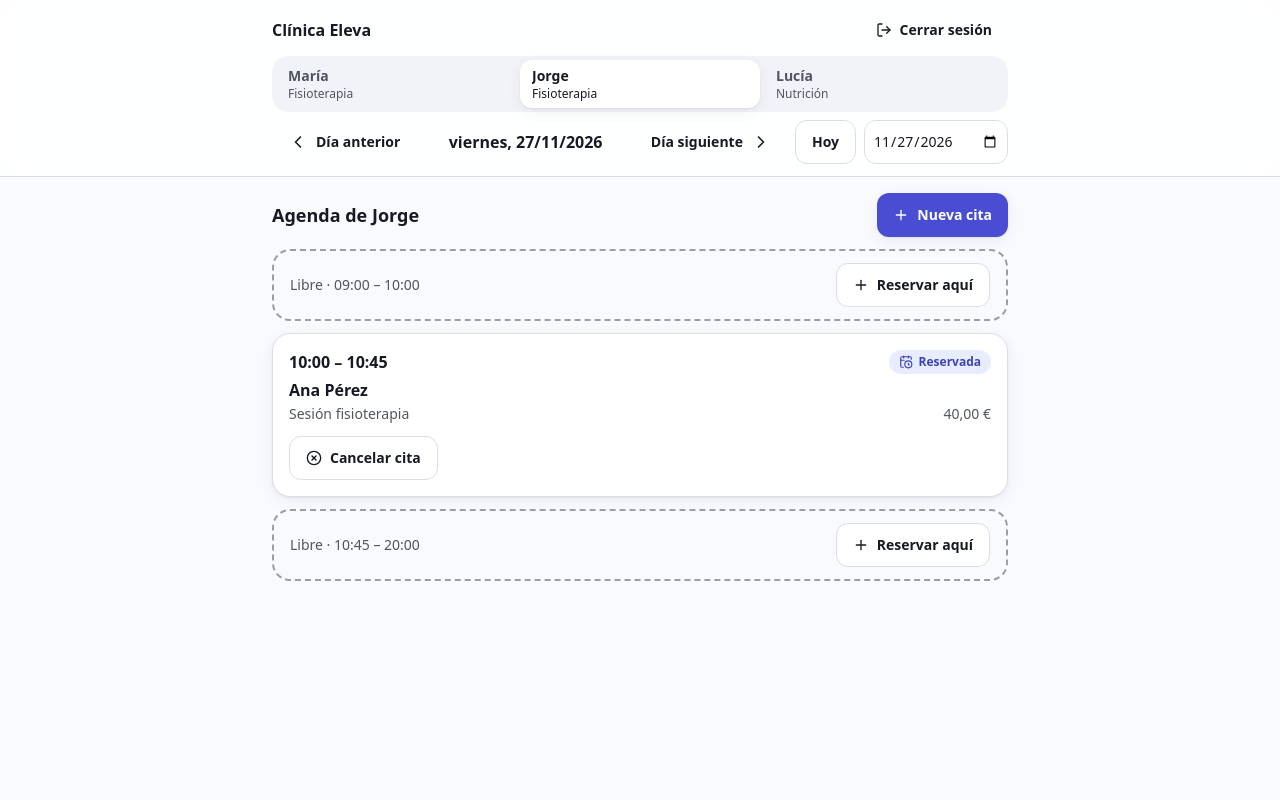
Test: DialogoAltaCita › [001][FR-008] abierto desde «Reservar aquí» llega con profesional, día y hora del hueco
Click the button "Reservar aquí" in the row of "10:45 – 20:00".
click(913, 545)  # box [836,523,990,567]
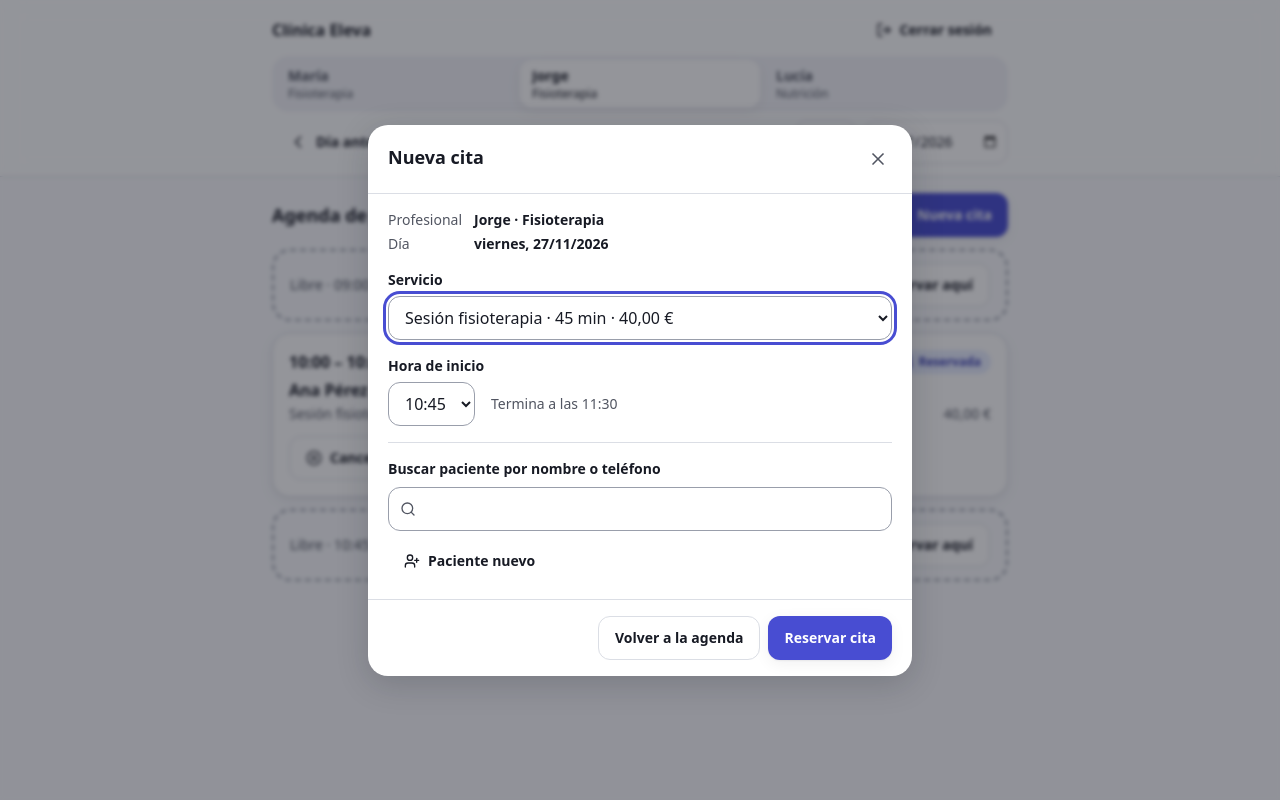
Check: the text "Jorge · Fisioterapia" is shown, box [474,210,604,228]
Check: the text "viernes, 27/11/2026" is shown, box [474,234,609,252]
Check: the dropdown labelled "Hora de inicio" shows "10:45", box [388,382,475,426]
